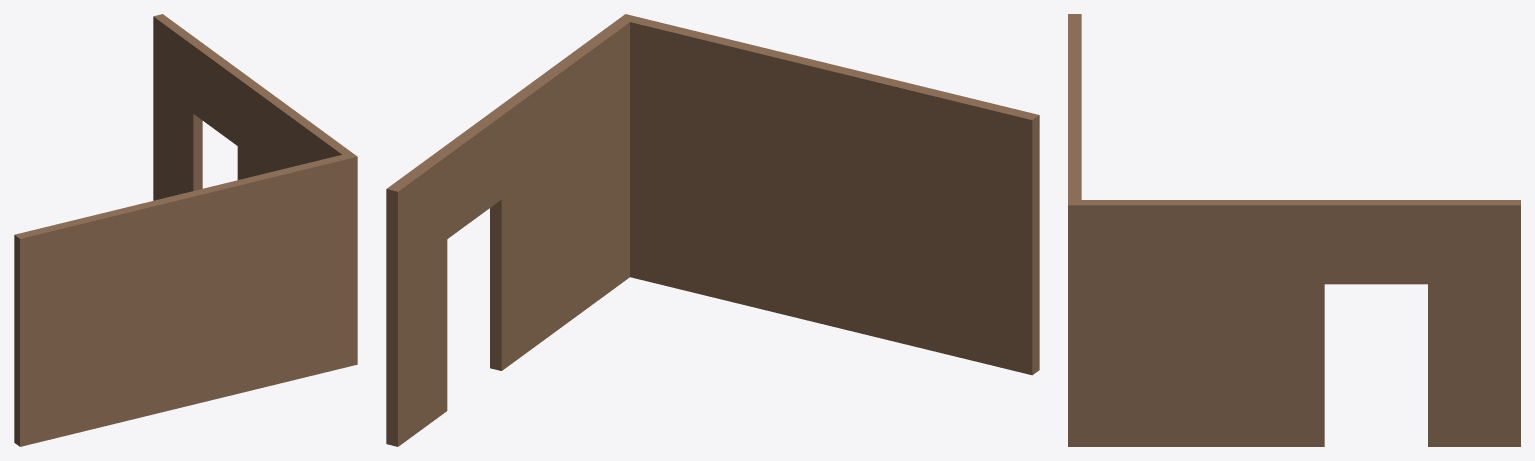
The model's file is wall_main.fbx.
3 renders of one model, left to right at view 1: azimuth 30°, elevation 25°; view 2: azimuth 150°, elevation 25°; view 3: azimuth 270°, elevation 25°, orthographic. The views are drawn at different scales.
Visible parts, largest first — view 1: Walls.002; view 2: Walls.002; view 3: Walls.002.
Part boxes in pixels (x1,y1,x2,y2): Walls.002: [14, 14, 357, 446]; Walls.002: [386, 14, 1039, 446]; Walls.002: [1068, 14, 1520, 446].
Bounding box in the file's own units: 537 × 316 × 537.
